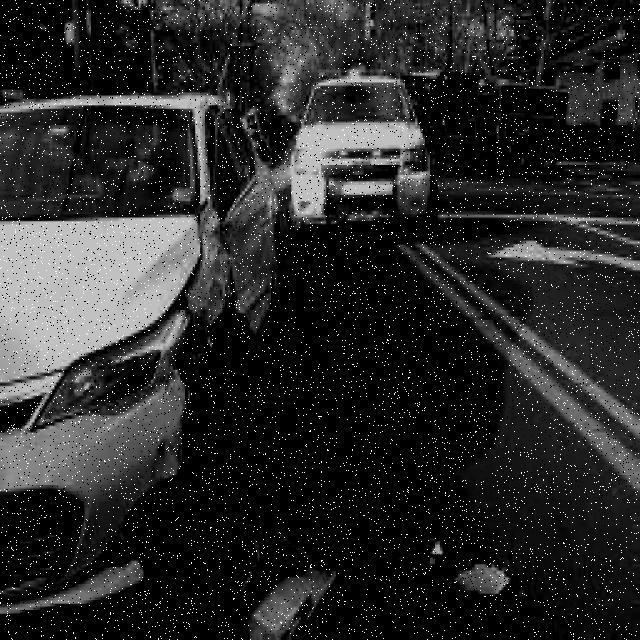car damage: (116, 209, 239, 595)
